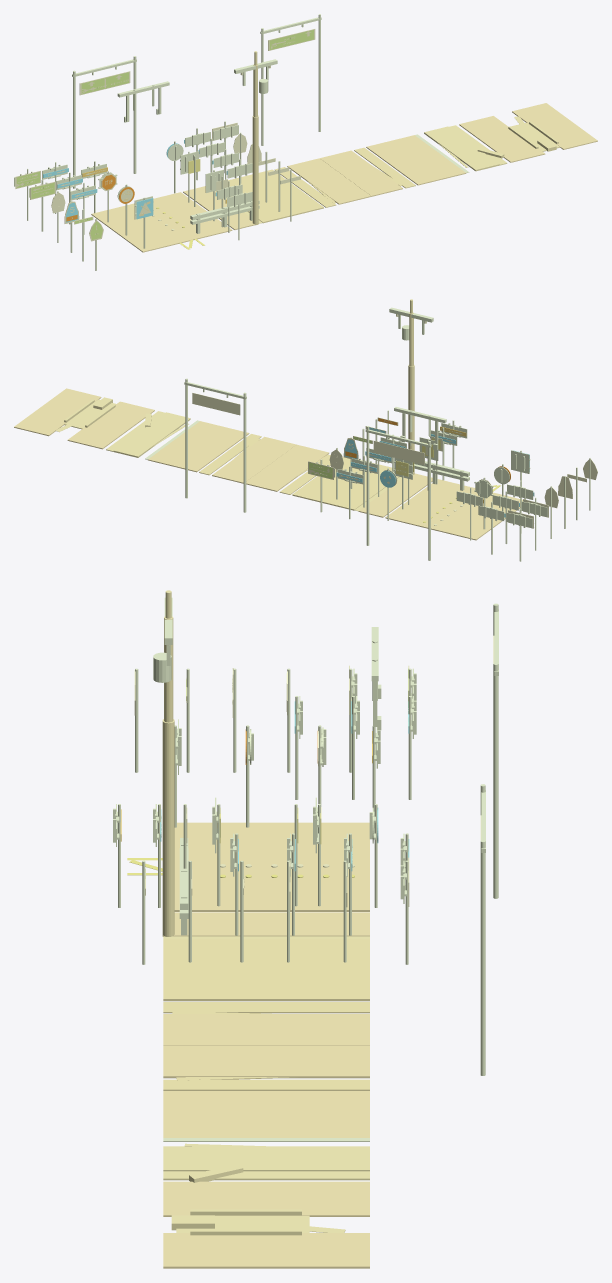
The model's file is scene_sign_test_lane.glb.
The picture shows the model from 3 angles, top to bottom: view 1: azimuth 30°, elevation 25°; view 2: azimuth 150°, elevation 25°; view 3: azimuth 270°, elevation 25°; orthographic projection. The views are drawn at different scales.
Visible parts, largest first — view 1: base, lane_left (×2), lane_right (×2), mainline_asphalt, shoulder, bridge_slab, layer_1_00 (×2), lane_edge, pole_right (×2), shaft_lower, shoulder_right, shoulder_left (+1 smaller); view 2: base, lane_left (×2), lane_right (×2), mainline_asphalt, shoulder, bridge_slab, plate_base_00 (×2), lane_edge, shoulder_right, shaft_lower, median_apron, pole_right (+3 smaller); view 3: base, lane_right (×2), lane_left (×2), shoulder, mainline_asphalt, bridge_slab, lane_edge, shaft_lower, pole_right (×2), shoulder_right, shoulder_left, outer_shoulder (+1 smaller).
Part boxes in pixels (x1=…): base: x1=91, y1=192, x2=232, y2=252; lane_left (×2): x1=287, y1=116, x2=545, y2=204; lane_right (×2): x1=320, y1=103, x2=597, y2=196; mainline_asphalt: x1=366, y1=135, x2=466, y2=185; shoulder: x1=228, y1=169, x2=323, y2=223; bridge_slab: x1=424, y1=126, x2=499, y2=171; layer_1_00 (×2): x1=81, y1=30, x2=313, y2=94; lane_edge: x1=183, y1=186, x2=258, y2=229; pole_right (×2): x1=133, y1=14, x2=320, y2=173; shaft_lower: x1=252, y1=115, x2=258, y2=224; shoulder_right: x1=354, y1=147, x2=415, y2=188; shoulder_left: x1=274, y1=167, x2=336, y2=207; base: x1=385, y1=479, x2=522, y2=540; lane_left (×2): x1=67, y1=401, x2=329, y2=491; lane_right (×2): x1=14, y1=388, x2=296, y2=483; mainline_asphalt: x1=147, y1=421, x2=249, y2=472; shoulder: x1=292, y1=457, x2=399, y2=510; bridge_slab: x1=113, y1=412, x2=190, y2=457; plate_base_00 (×2): x1=192, y1=392, x2=424, y2=464; lane_edge: x1=358, y1=473, x2=432, y2=517; shoulder_right: x1=199, y1=434, x2=261, y2=475; shaft_lower: x1=408, y1=365, x2=414, y2=474; median_apron: x1=64, y1=399, x2=115, y2=429; pole_right: x1=366, y1=426, x2=369, y2=545; base: x1=174, y1=822, x2=369, y2=911; lane_right (×2): x1=163, y1=1045, x2=369, y2=1268; lane_left (×2): x1=163, y1=1014, x2=369, y2=1216; shoulder: x1=163, y1=939, x2=369, y2=1001; mainline_asphalt: x1=163, y1=1091, x2=369, y2=1137; bridge_slab: x1=163, y1=1146, x2=369, y2=1171; lane_edge: x1=163, y1=912, x2=369, y2=936; shaft_lower: x1=162, y1=719, x2=174, y2=936; pole_right (×2): x1=480, y1=662, x2=498, y2=1075; shoulder_right: x1=163, y1=1079, x2=369, y2=1090; shoulder_left: x1=163, y1=1002, x2=369, y2=1013; outer_shoulder: x1=163, y1=1171, x2=369, y2=1180.
Size of the model in its own units: 23.34 by 7.36 by 7.47.
